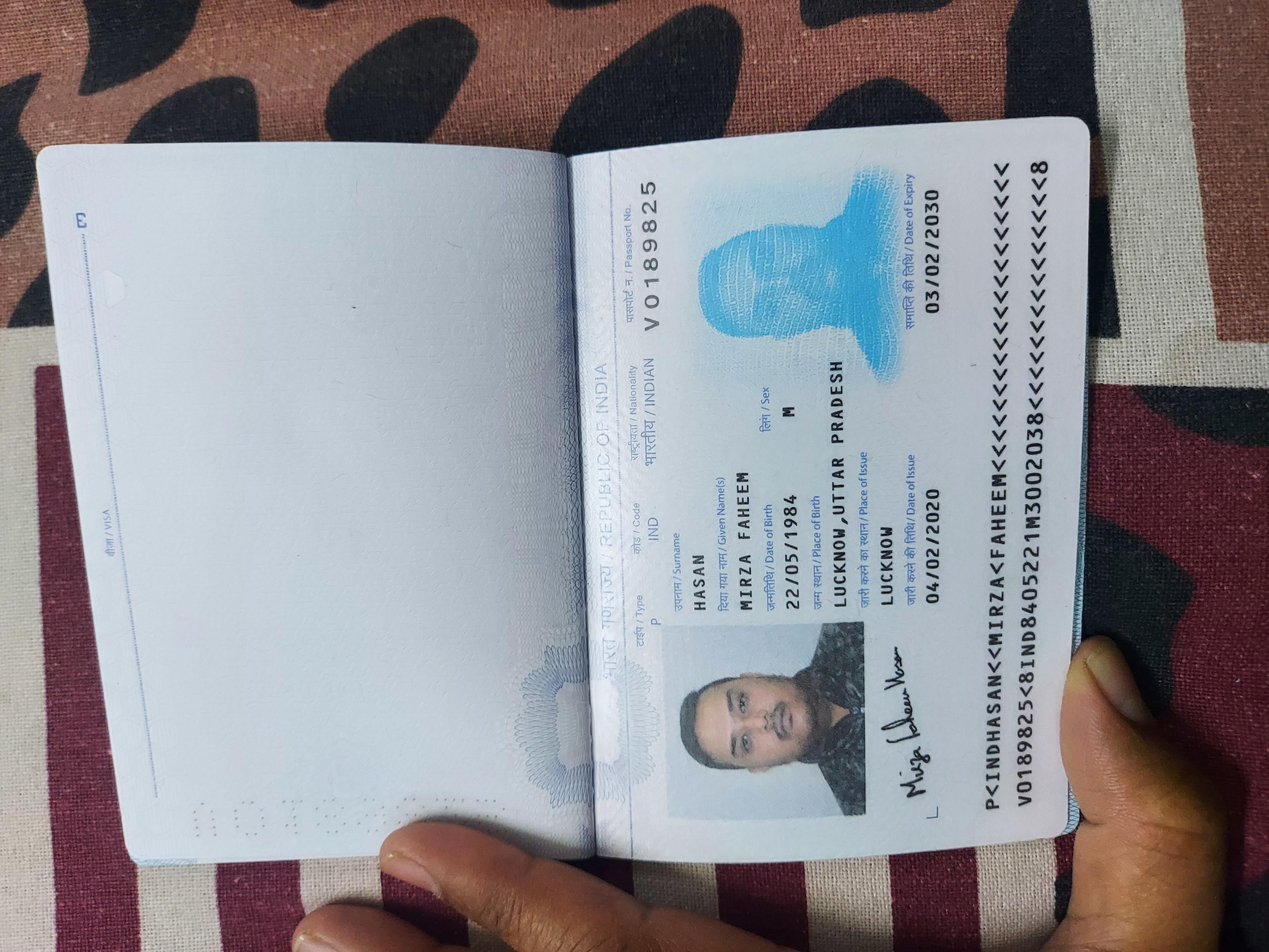DOB: (448, 583, 624, 603)
Surname: (451, 515, 543, 535)
country_code: (541, 481, 584, 497)
date_of_expiry: (839, 690, 1025, 710)
date_of_issue: (455, 690, 632, 712)
details: (173, 731, 1066, 790)
name: (448, 551, 663, 570)
nationality: (641, 482, 800, 495)
passport_no: (821, 478, 1041, 503)
photo: (173, 500, 436, 647)
place_of_birth: (446, 618, 801, 636)
place_of_issue: (452, 654, 584, 673)
sex: (699, 580, 739, 603)
sign: (191, 661, 427, 699)
type: (428, 485, 455, 501)
